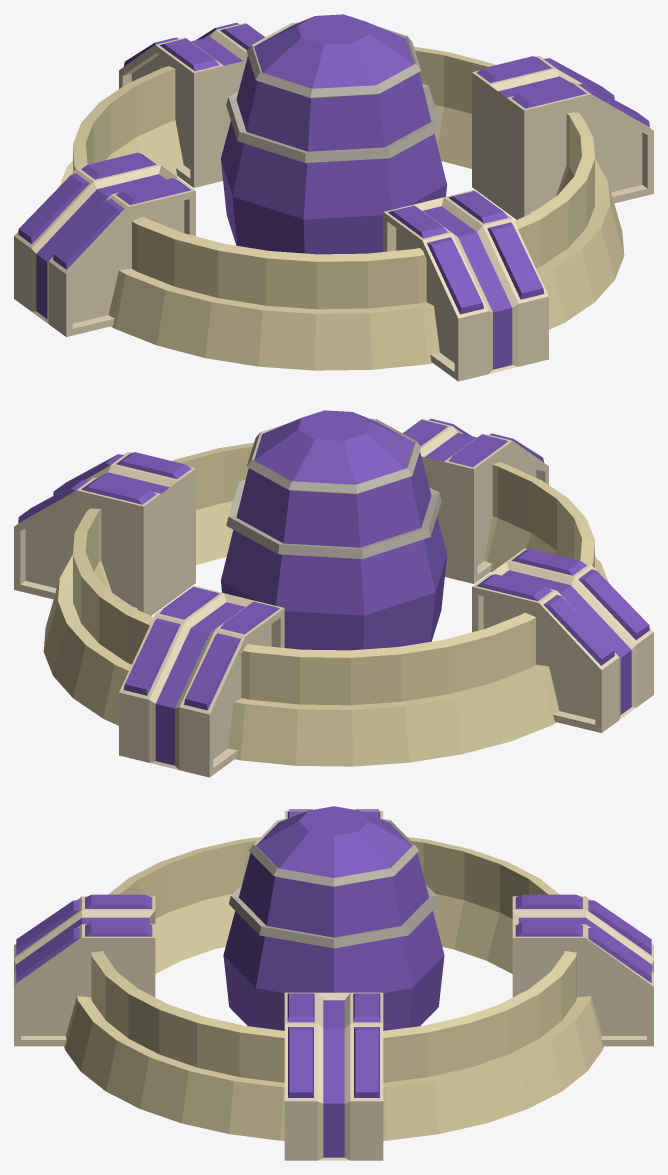
The model's file is EnemyBase.fbx.
3 views of the same model, one above another, from view 1: azimuth 30°, elevation 25°; view 2: azimuth 150°, elevation 25°; view 3: azimuth 270°, elevation 25° (orthographic). The views are drawn at different scales.
Visible parts, largest first — view 1: EnemyBase.001; view 2: EnemyBase.001; view 3: EnemyBase.001.
Boxes of the visible parts, x1,y1,x2,y2 form: EnemyBase.001: (14, 14, 653, 381); EnemyBase.001: (14, 410, 653, 777); EnemyBase.001: (14, 806, 653, 1160).
Bounding box in the file's own units: 648 × 230 × 648.
